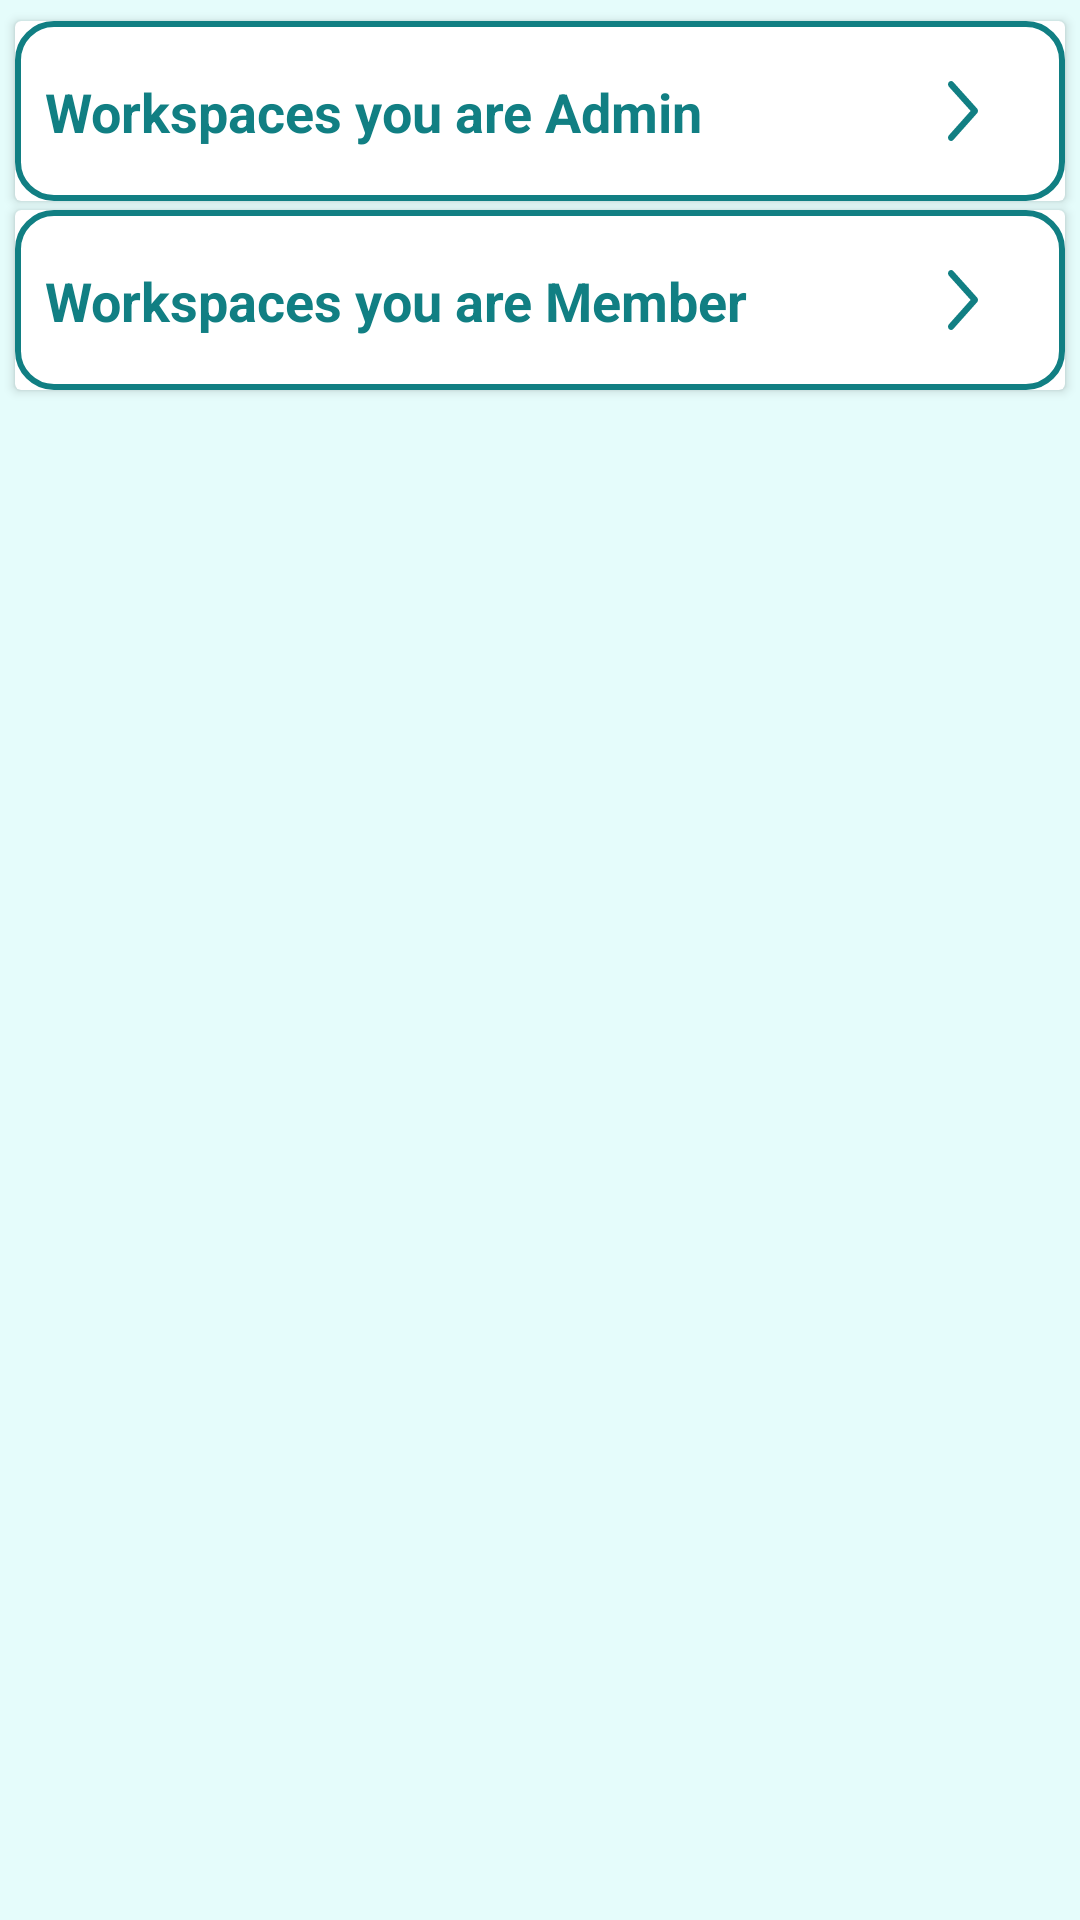

Locate icon controls on the screen. Image size 1080*1920, boxes as box(x1, y1, x2, y2).
next: box(948, 81, 978, 141), box(948, 270, 978, 330)
